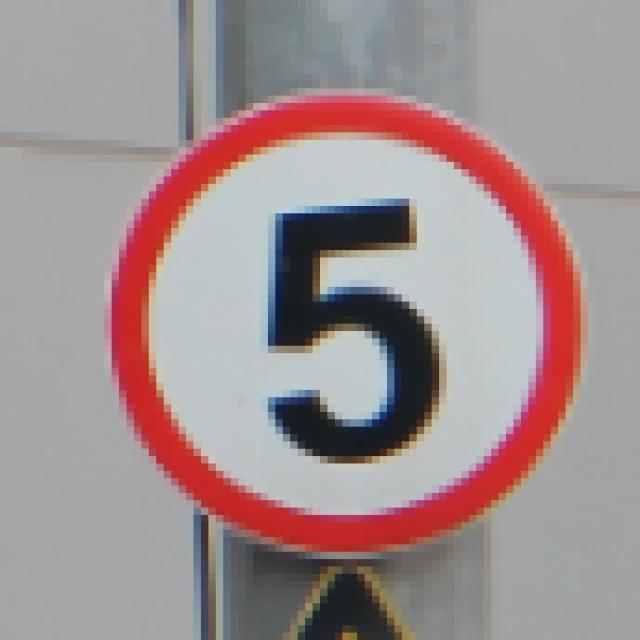Speed: (96, 79, 599, 574)
